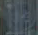bike lane: (2, 1, 36, 33)
